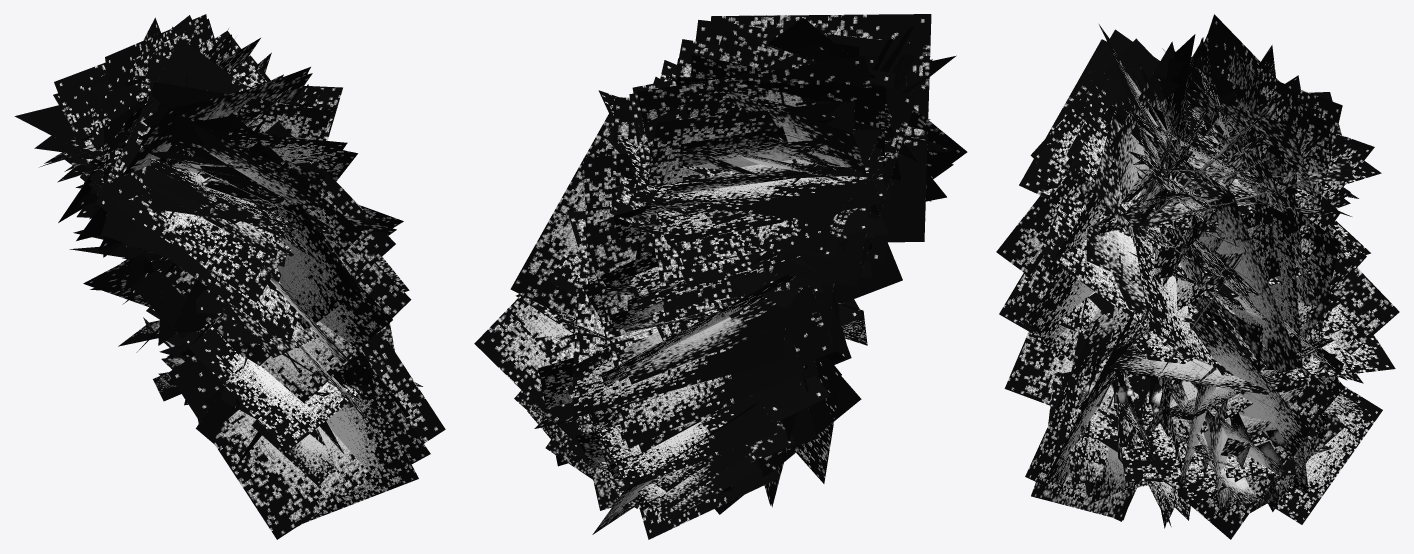
The model's file is waterfall.fbx.
The picture shows the model from 3 angles, left to right: view 1: azimuth 30°, elevation 25°; view 2: azimuth 150°, elevation 25°; view 3: azimuth 270°, elevation 25°; orthographic projection. The views are drawn at different scales.
Parts seen in each view (by area): view 1: particle.596, particle.433, particle.355, particle.339, particle.416, particle.467, particle.426, particle.349, particle.377, particle.490, particle.450, particle.436 (+38 smaller); view 2: particle.349, particle.398, particle.324, particle.373, particle.465, particle.389, particle.539, particle.444, particle.560, particle.417, particle.411, particle.585 (+58 smaller); view 3: particle.444, particle.389, particle.461, particle.400, particle.452, particle.481, particle.504, particle.554, particle.462, particle.450, particle.436, particle.516 (+93 smaller).
Boxes of the visible parts, x1,y1,x2,y2 form: particle.596: [168, 330, 445, 539]; particle.433: [181, 322, 388, 451]; particle.355: [135, 262, 411, 403]; particle.339: [305, 356, 418, 522]; particle.416: [246, 126, 357, 330]; particle.467: [96, 37, 242, 231]; particle.426: [143, 121, 395, 365]; particle.349: [76, 73, 312, 240]; particle.377: [97, 156, 278, 302]; particle.490: [133, 221, 299, 340]; particle.450: [151, 82, 331, 140]; particle.436: [140, 125, 347, 172]; particle.349: [711, 14, 931, 242]; particle.398: [614, 333, 803, 448]; particle.324: [630, 137, 906, 221]; particle.373: [594, 404, 777, 487]; particle.465: [573, 324, 785, 417]; particle.389: [474, 295, 582, 449]; particle.539: [616, 286, 821, 384]; particle.444: [510, 104, 614, 316]; particle.560: [635, 101, 843, 258]; particle.417: [637, 56, 891, 180]; particle.411: [643, 39, 895, 286]; particle.585: [715, 29, 916, 287]; particle.444: [1200, 193, 1301, 374]; particle.389: [1193, 311, 1310, 480]; particle.461: [1267, 385, 1382, 524]; particle.400: [1041, 197, 1192, 360]; particle.452: [1132, 227, 1218, 369]; particle.481: [1177, 366, 1333, 539]; particle.504: [1004, 331, 1149, 430]; particle.554: [1113, 404, 1296, 482]; particle.462: [1109, 345, 1282, 394]; particle.450: [1110, 41, 1174, 246]; particle.436: [1066, 74, 1186, 277]; particle.516: [1326, 268, 1399, 354].
Size of the model in its own units: 8.54 by 11.3 by 9.04.
Materials: 1 (1 with a texture image).
